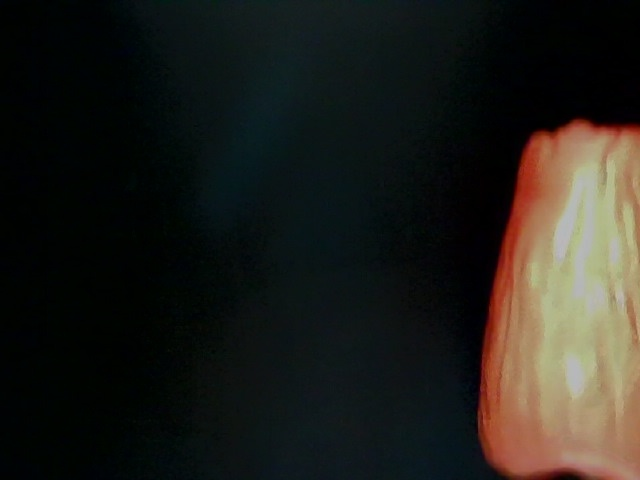QTLJ: (507, 6, 640, 194)
